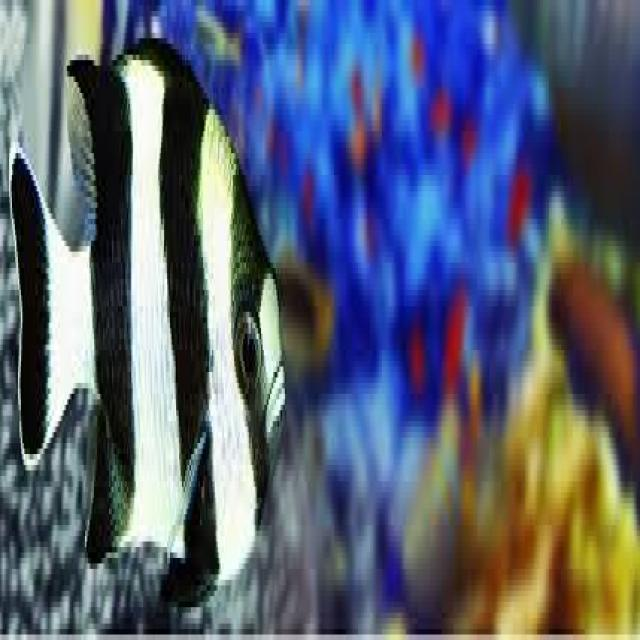ThreeStripedDamselfish: (10, 34, 290, 601)
